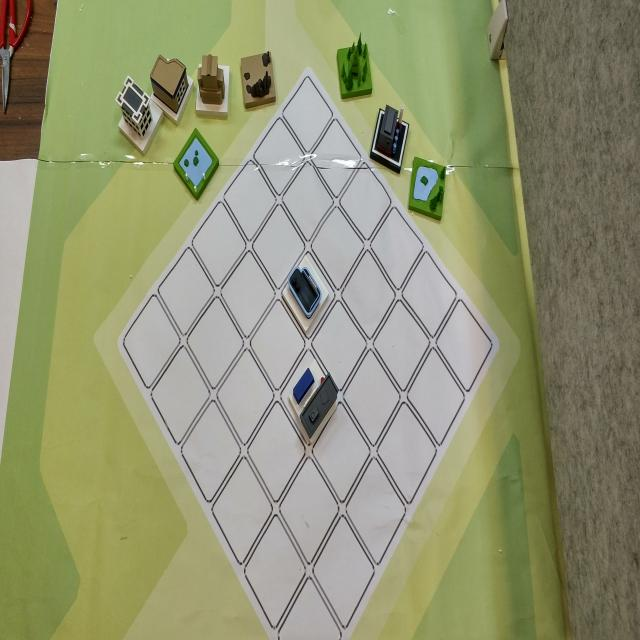bus_stop: (282, 349, 343, 452)
factory: (368, 100, 410, 172)
fish_pool: (172, 118, 222, 202)
forest: (331, 26, 378, 104)
gogo_shop: (280, 247, 334, 340)
research_build: (110, 77, 162, 162)
restaurant: (148, 46, 191, 125)
silicate_rock: (238, 43, 280, 116)
volunteer_center: (189, 48, 231, 126)
wet_land: (404, 147, 454, 228)
